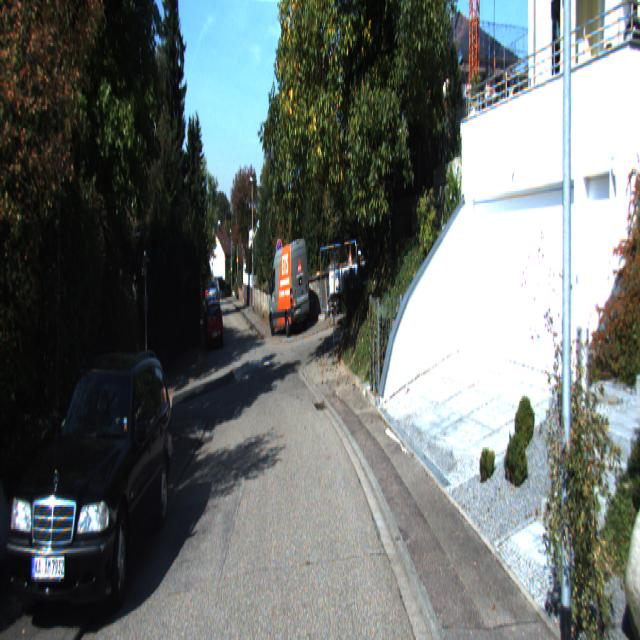Car: (2, 346, 178, 638), (268, 237, 312, 336), (203, 300, 224, 354)
